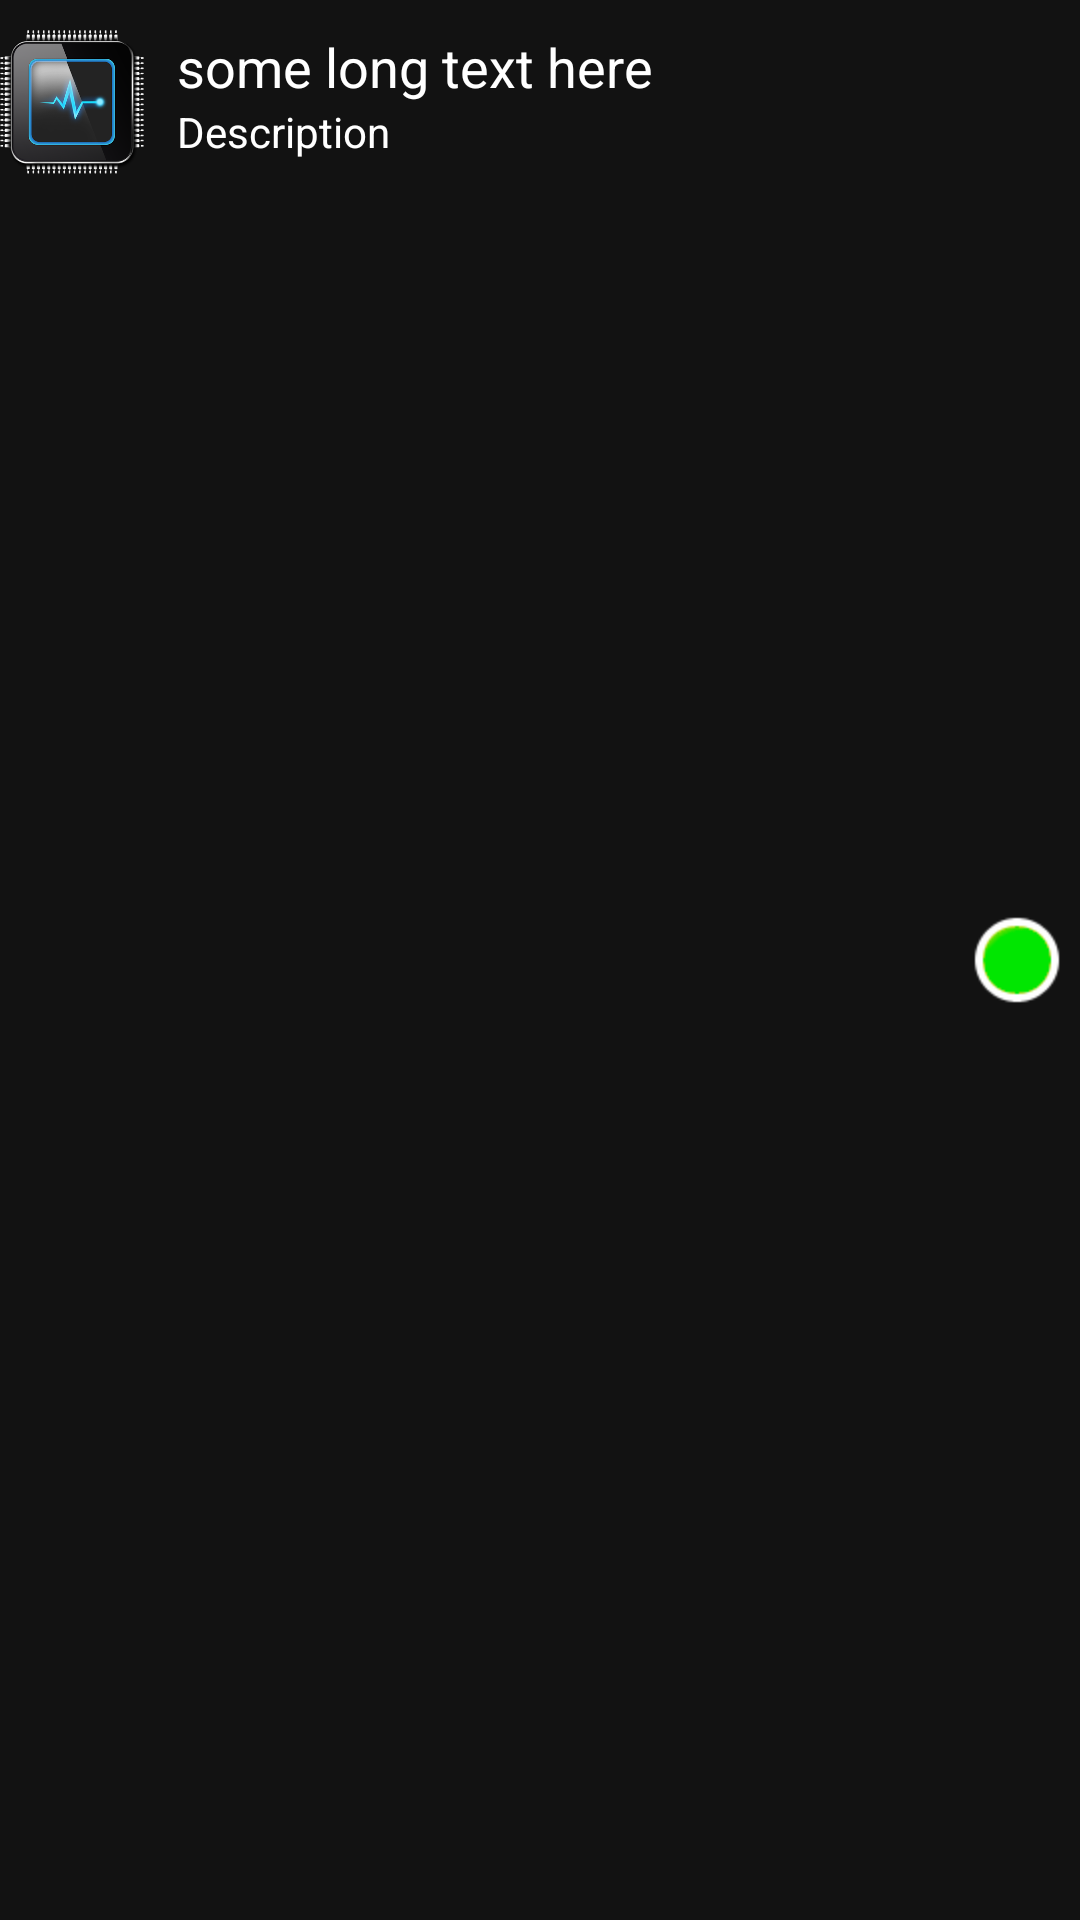

Icons on this 1080x1920 Android screen, each with the point to tap as [x,y]:
cpu: [72,102]
